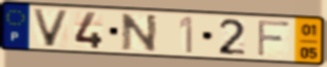1: (178, 15, 195, 55)
2: (218, 17, 248, 58)
4: (73, 10, 105, 50)
F: (255, 18, 292, 58)
N: (119, 13, 160, 54)
V: (30, 7, 72, 48)
